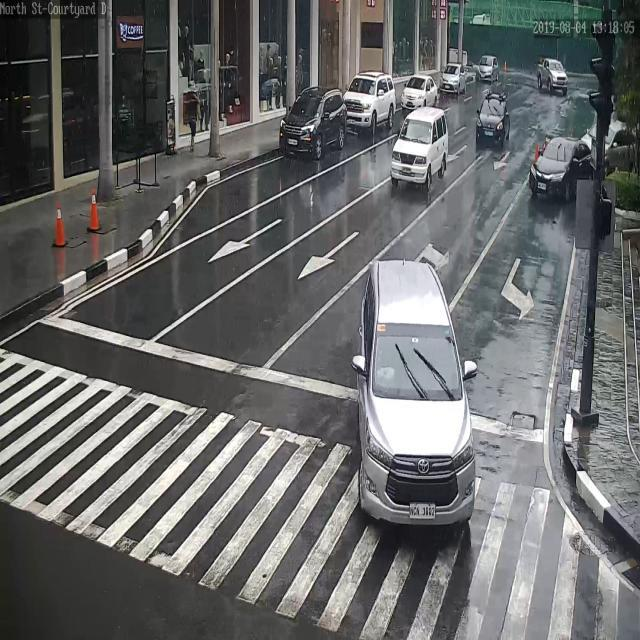car: (357, 259, 477, 527), (279, 85, 348, 157), (390, 107, 449, 184), (528, 136, 591, 197), (343, 74, 396, 133), (582, 120, 640, 172), (477, 91, 510, 145), (401, 73, 438, 114), (537, 58, 569, 92), (440, 61, 467, 94), (476, 56, 498, 82)
